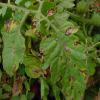Tomato Septoria leaf spot: (40, 18, 91, 99), (1, 13, 27, 78)
